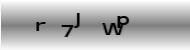7: (59, 23, 75, 38)
W: (100, 20, 124, 36)
j: (73, 11, 81, 28)
p: (115, 14, 129, 28)
r: (34, 20, 45, 32)
